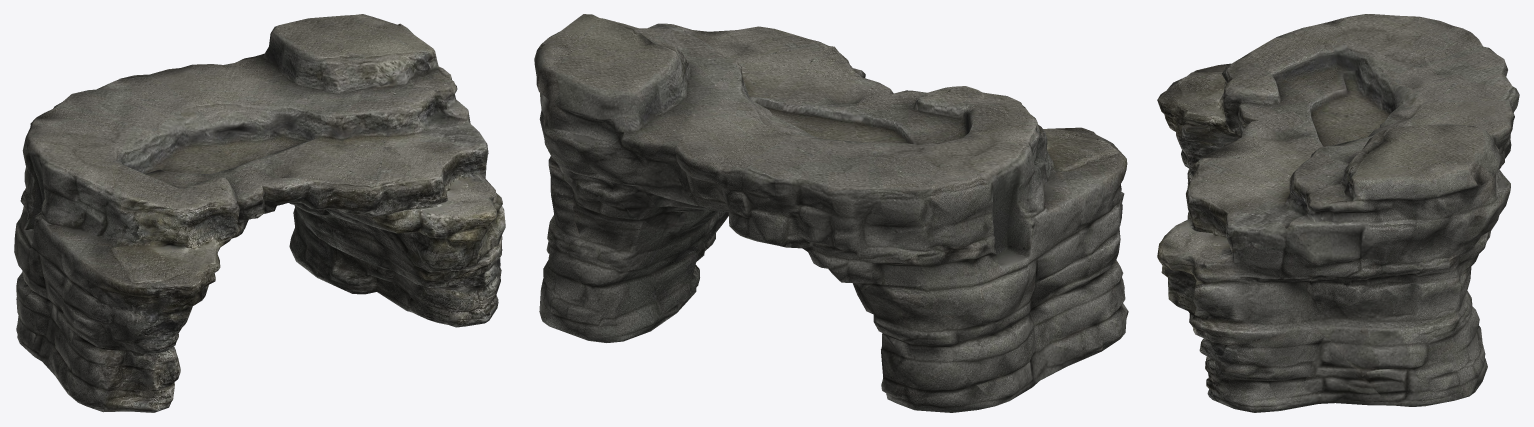
File: rock_arch.glb
3 renders of one model, left to right at view 1: azimuth 30°, elevation 25°; view 2: azimuth 150°, elevation 25°; view 3: azimuth 270°, elevation 25°, orthographic. The views are drawn at different scales.
Visible parts, largest first — view 1: rock_arch; view 2: rock_arch; view 3: rock_arch.
Boxes of the visible parts, <box> form: rock_arch: <box>14,14,505,412</box>; rock_arch: <box>534,14,1128,412</box>; rock_arch: <box>1157,14,1519,412</box>.
Size of the model in its own units: 1.9 by 0.9458 by 1.35.
1 material, 1 textured.
